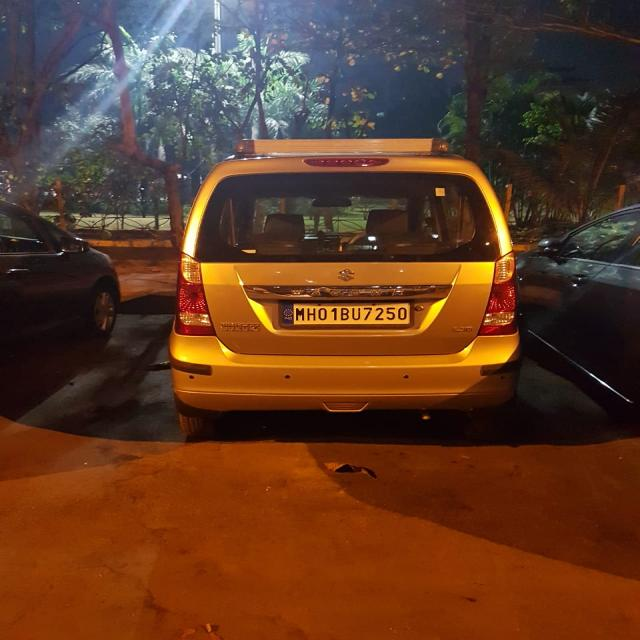Number-Plate: (284, 302, 412, 324)
